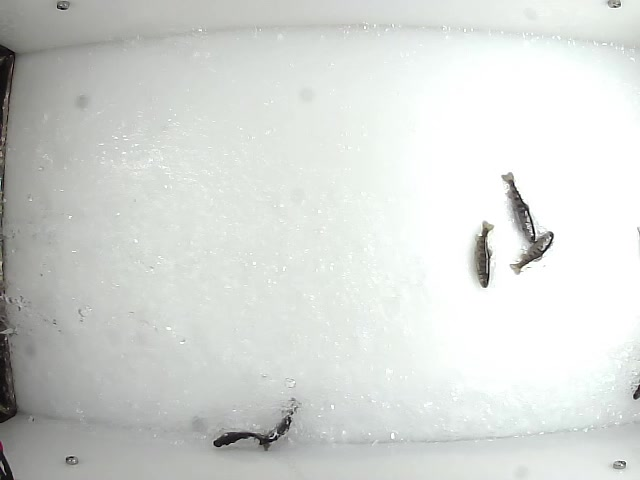fish: (500, 171, 537, 243), (507, 227, 555, 277), (258, 398, 298, 452), (471, 218, 495, 288), (208, 427, 276, 450)
